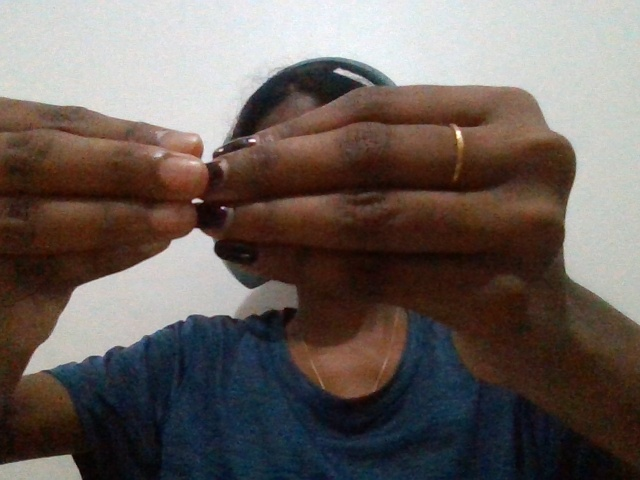More: (2, 64, 603, 462)
